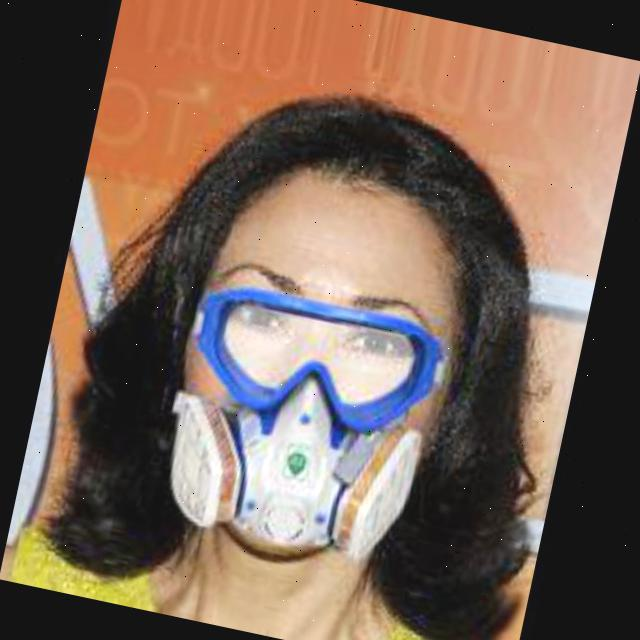suspicion: (23, 42, 596, 583)
